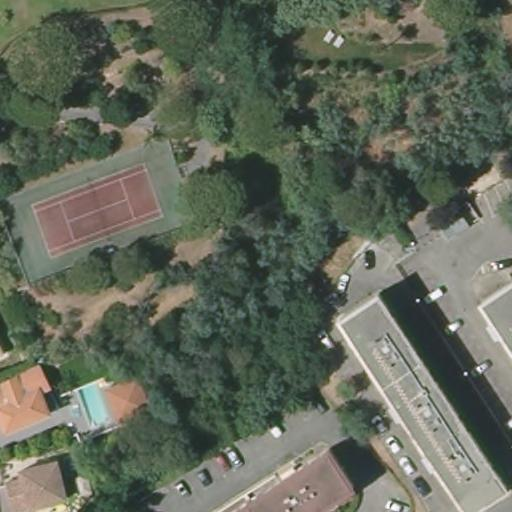pool: (72, 382, 117, 427)
